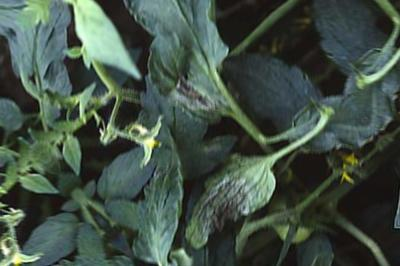Tomato leaf late blight: (69, 0, 293, 146), (156, 125, 300, 263), (97, 155, 222, 266)
